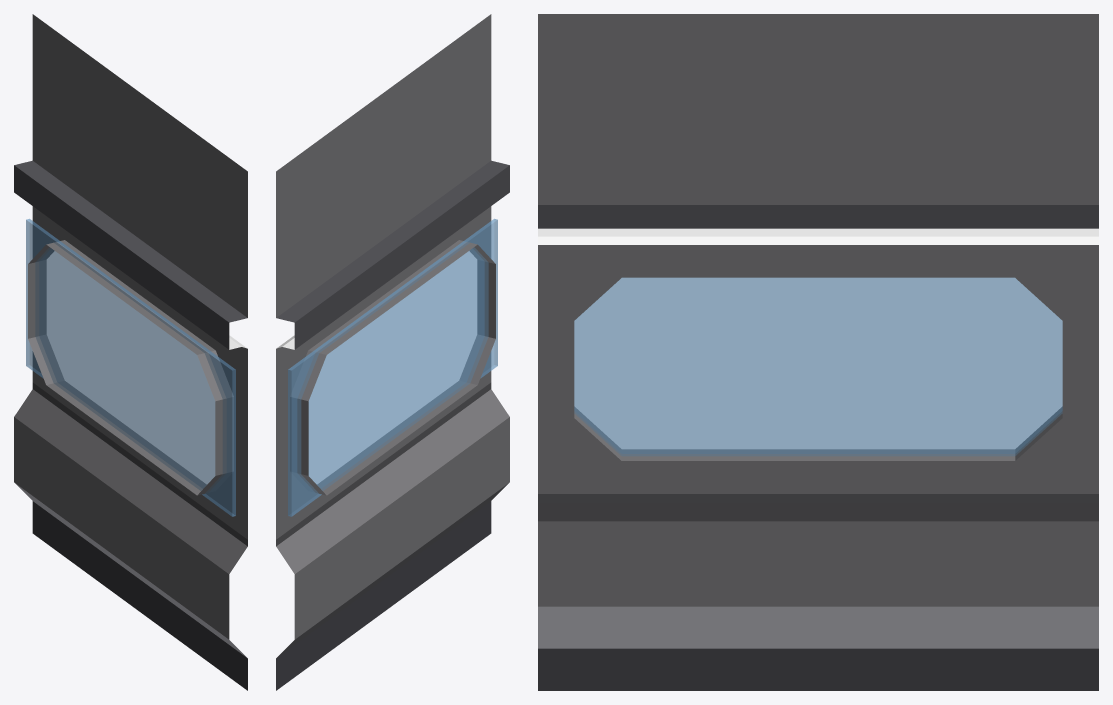
Rendered from Wall Window.fbx.
The picture shows the model from 3 angles, left to right: view 1: azimuth 30°, elevation 25°; view 2: azimuth 150°, elevation 25°; view 3: azimuth 270°, elevation 25°; orthographic projection. The views are drawn at different scales.
Parts seen in each view (by area): view 1: Wall Window; view 2: Wall Window; view 3: Wall Window.
Boxes of the visible parts, bbox=[...] form: Wall Window: bbox=[14, 14, 247, 690]; Wall Window: bbox=[276, 14, 509, 690]; Wall Window: bbox=[538, 14, 1098, 690].
Size of the model in its own units: 10 by 266 by 200.
